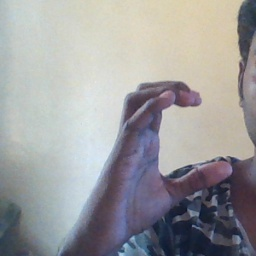C: (106, 72, 235, 208)
